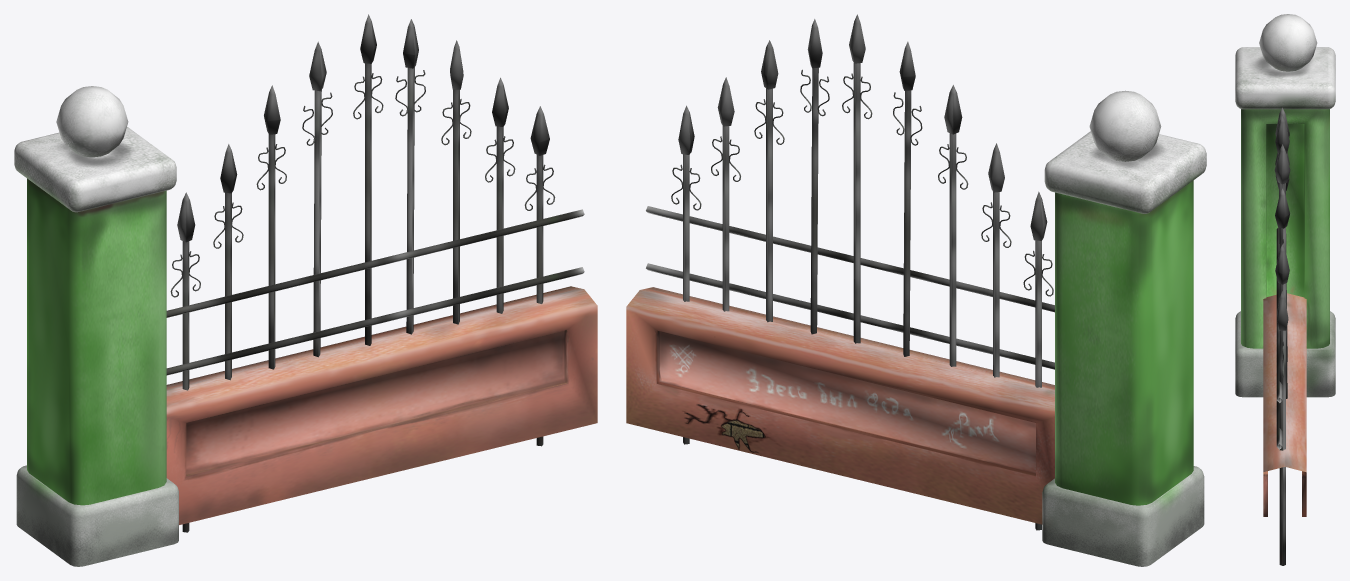
The model's file is hedge_01.FBX.
3 renders of one model, left to right at view 1: azimuth 30°, elevation 25°; view 2: azimuth 150°, elevation 25°; view 3: azimuth 270°, elevation 25°, orthographic. The views are drawn at different scales.
Visible parts, largest first — view 1: Object009, zabor005; view 2: Object009, zabor005; view 3: zabor005, Object009.
Part boxes in pixels (x1=…): Object009: x1=166, y1=14, x2=597, y2=532; zabor005: x1=14, y1=86, x2=178, y2=566; Object009: x1=626, y1=14, x2=1054, y2=530; zabor005: x1=1042, y1=90, x2=1206, y2=566; zabor005: x1=1235, y1=14, x2=1335, y2=397; Object009: x1=1263, y1=107, x2=1306, y2=565.
Size of the model in its own units: 17.85 by 14.87 by 3.54.
